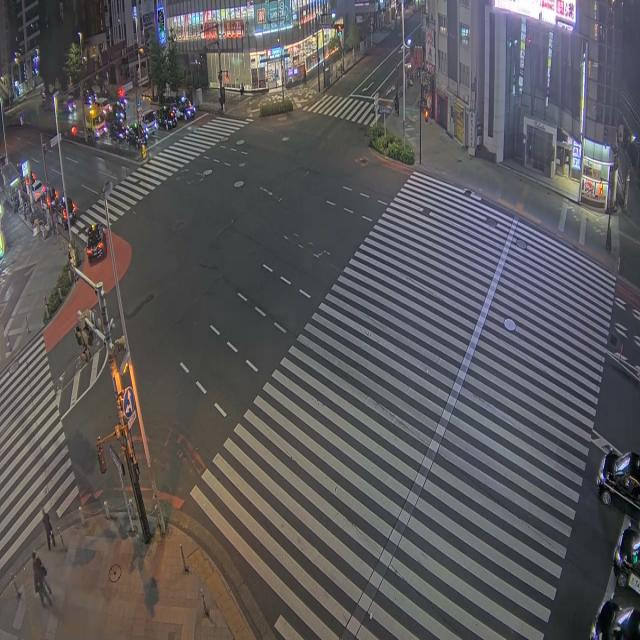car: (597, 451, 639, 508), (590, 600, 639, 639), (613, 526, 639, 593), (86, 224, 105, 262), (156, 105, 177, 130), (127, 123, 147, 148), (174, 96, 195, 119), (60, 195, 77, 223), (141, 110, 158, 135), (109, 121, 127, 142), (55, 202, 67, 227), (32, 180, 46, 201), (67, 98, 76, 112)
